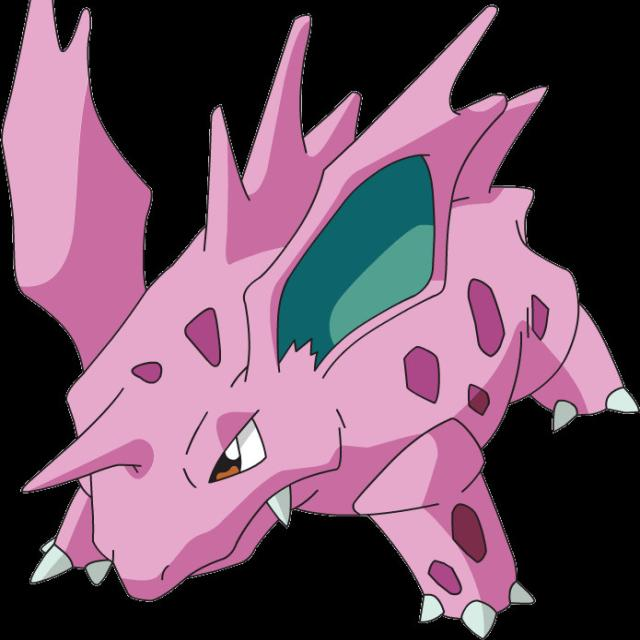Nidorino: (4, 4, 632, 635)
